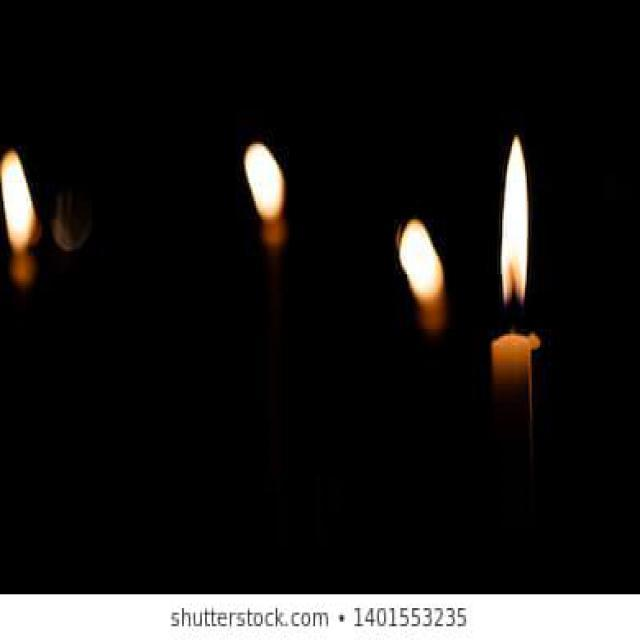Fire: (500, 136, 528, 317)
